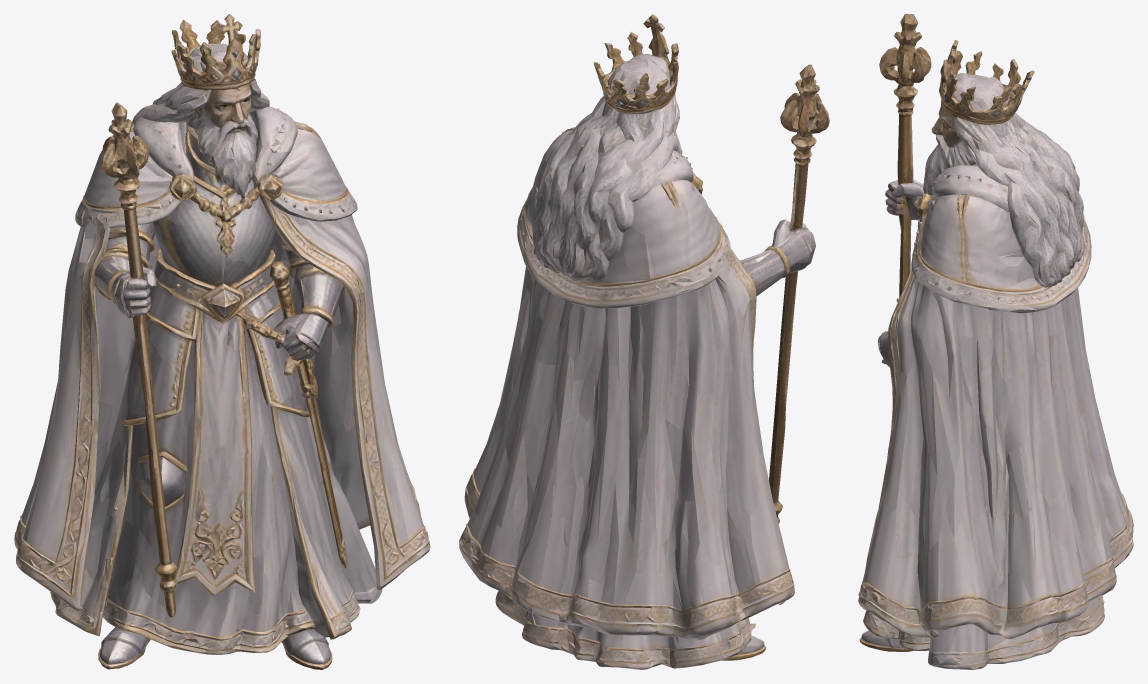
Rendered from king_white.glb.
The picture shows the model from 3 angles, left to right: view 1: azimuth 30°, elevation 25°; view 2: azimuth 150°, elevation 25°; view 3: azimuth 270°, elevation 25°; orthographic projection. The views are drawn at different scales.
Bounding box in the file's own units: 1.15 × 1.9 × 0.8141.
Materials: 1 (1 with a texture image).
